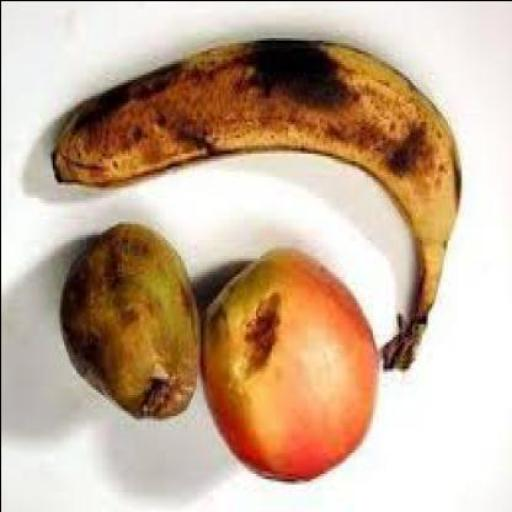biodegradable: (52, 37, 462, 375), (198, 249, 382, 486), (59, 223, 199, 423)
